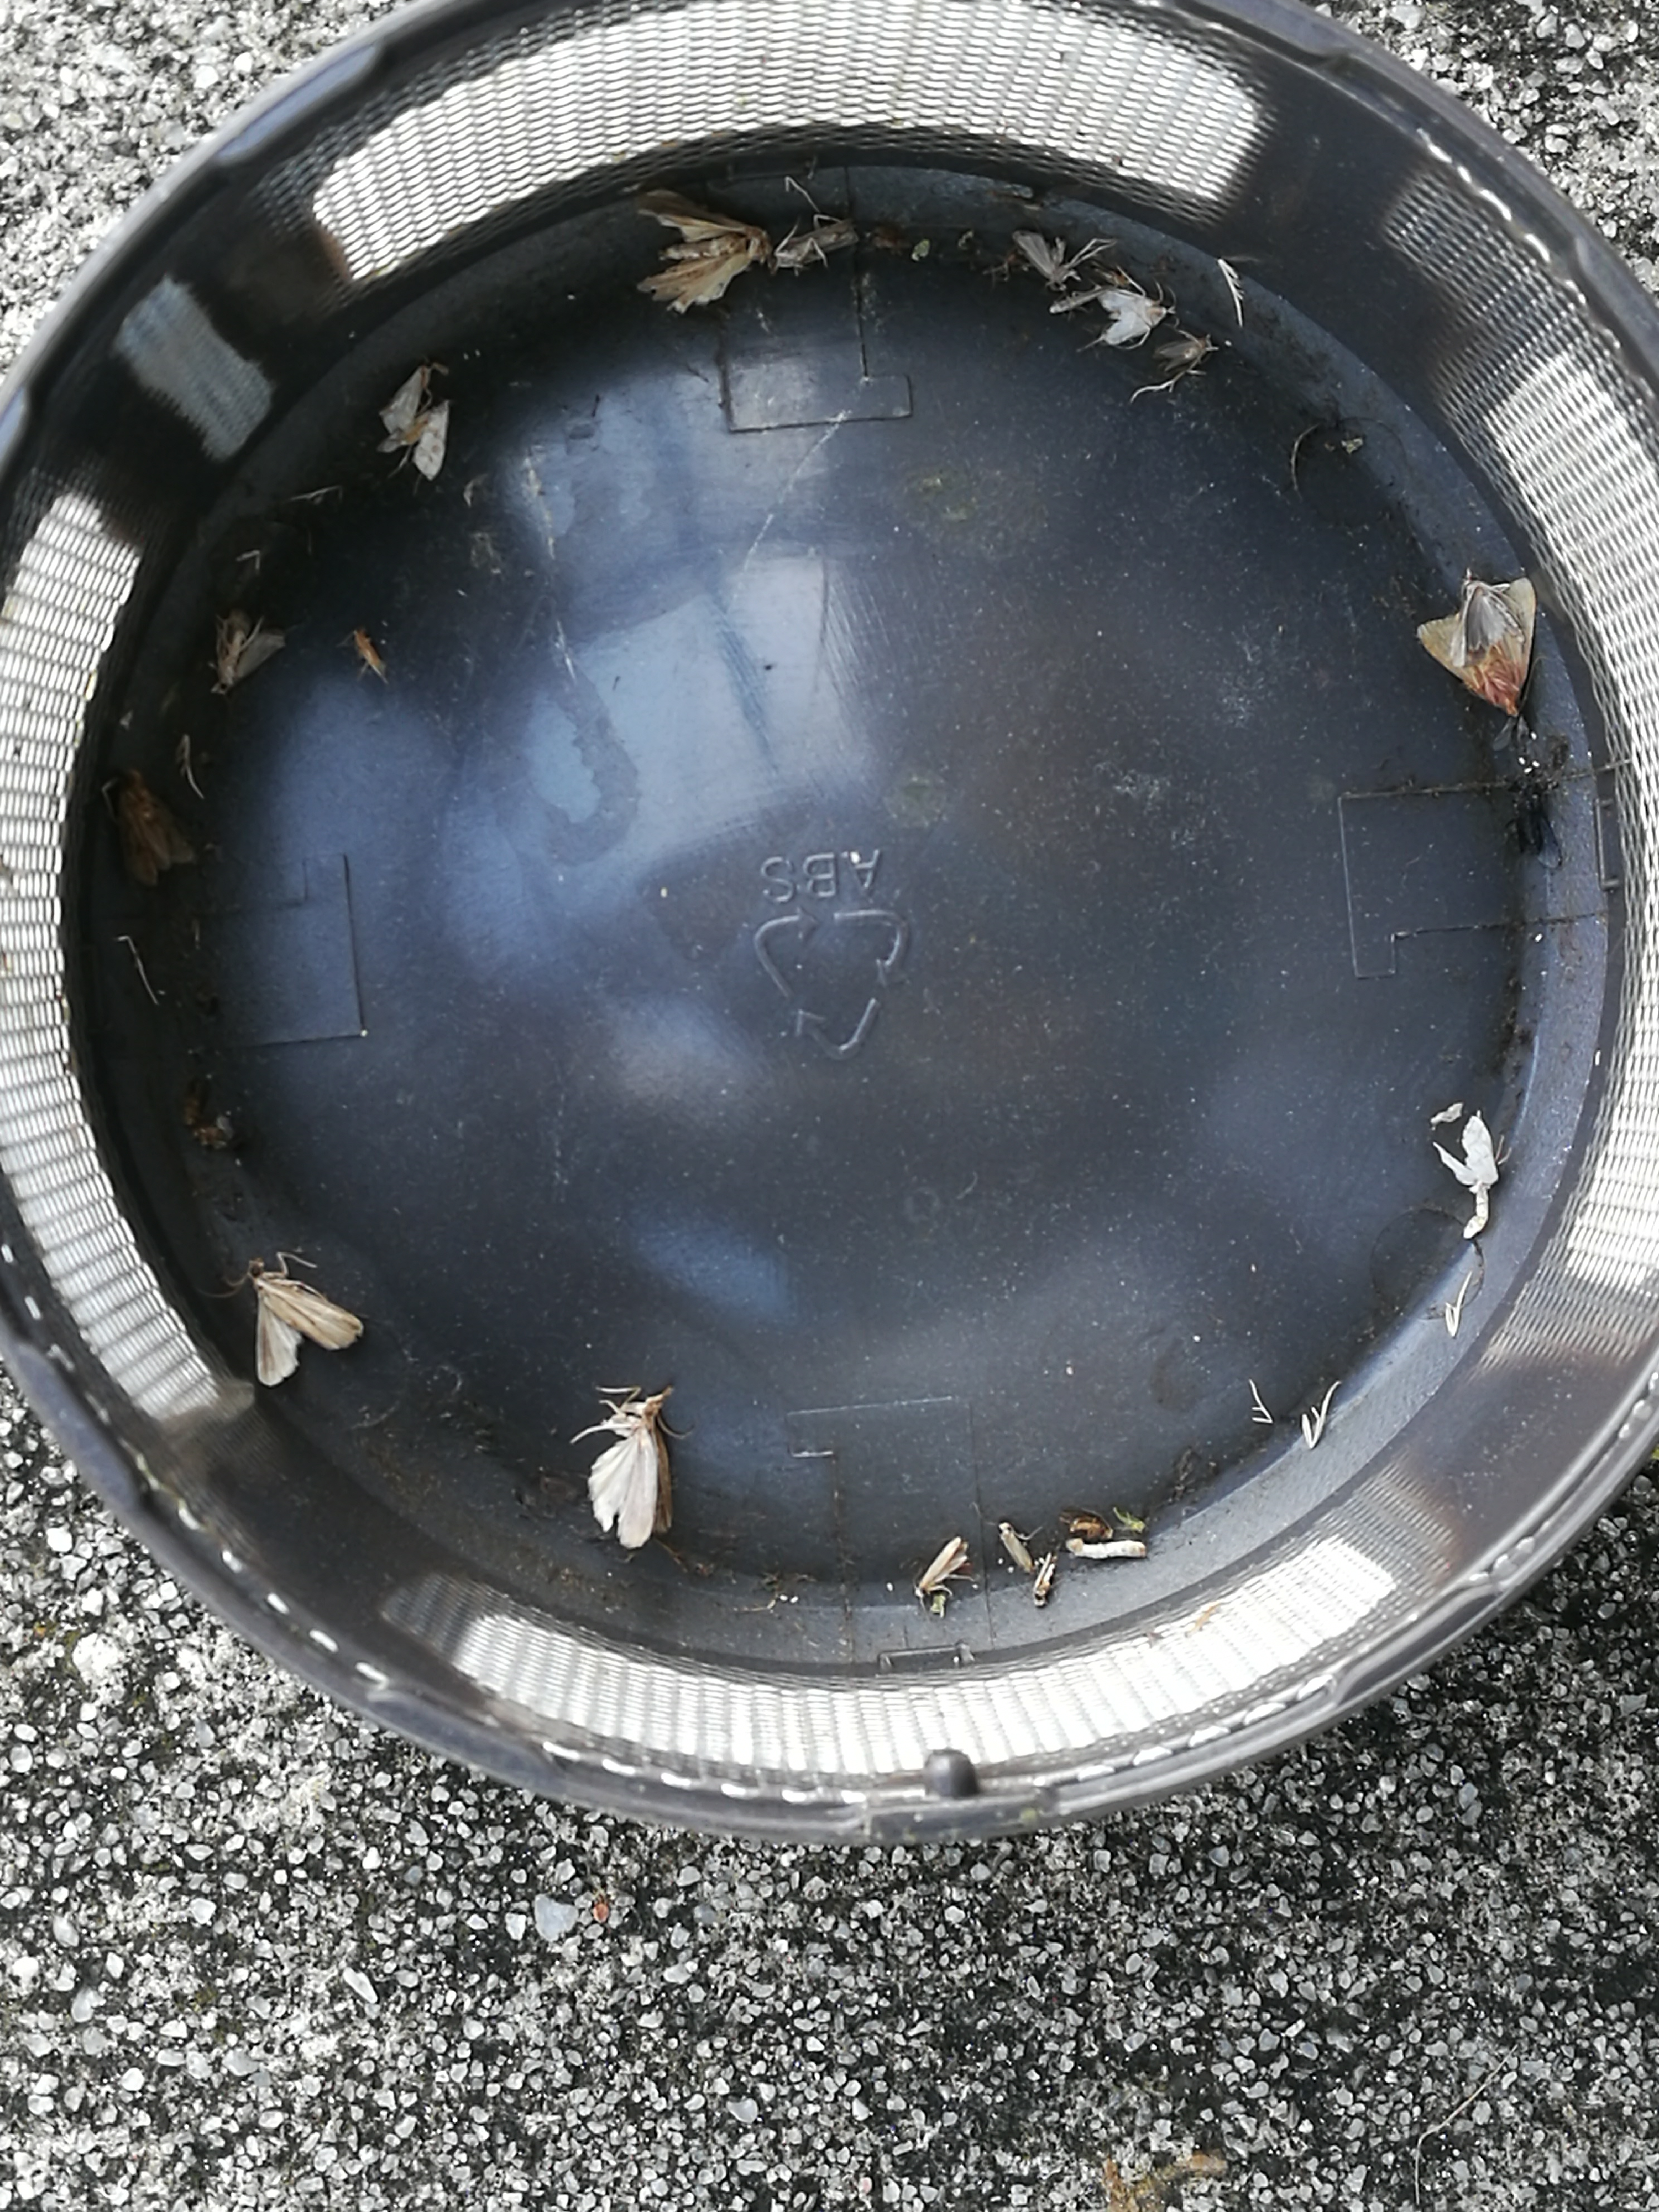mosquito: (769, 219, 861, 272), (913, 1534, 967, 1595), (1150, 340, 1209, 373), (999, 1521, 1033, 1573), (1066, 1538, 1147, 1557), (354, 631, 382, 674), (1035, 1555, 1054, 1606)
moth: (636, 188, 767, 312), (1420, 578, 1535, 716), (249, 1259, 364, 1386), (589, 1385, 673, 1547), (119, 772, 197, 888), (1434, 1116, 1499, 1238), (209, 610, 284, 693), (376, 399, 450, 479), (1098, 287, 1168, 345), (1014, 228, 1075, 289), (382, 362, 430, 434)
